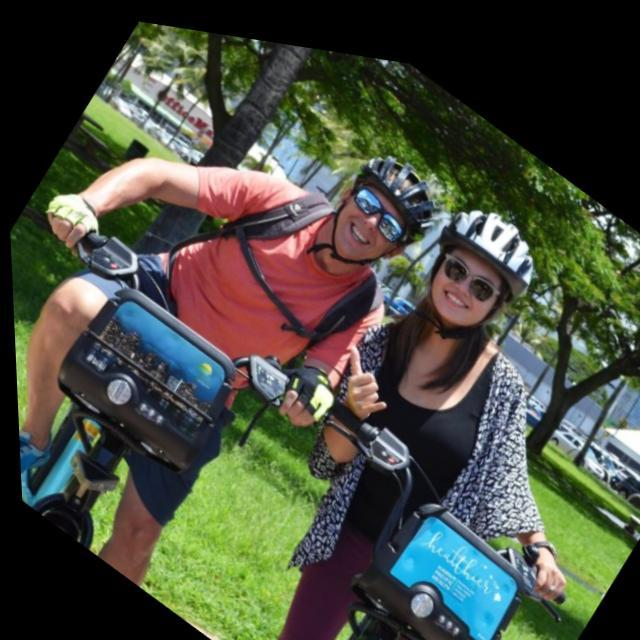Helmet: (415, 199, 541, 353), (318, 146, 438, 273)
